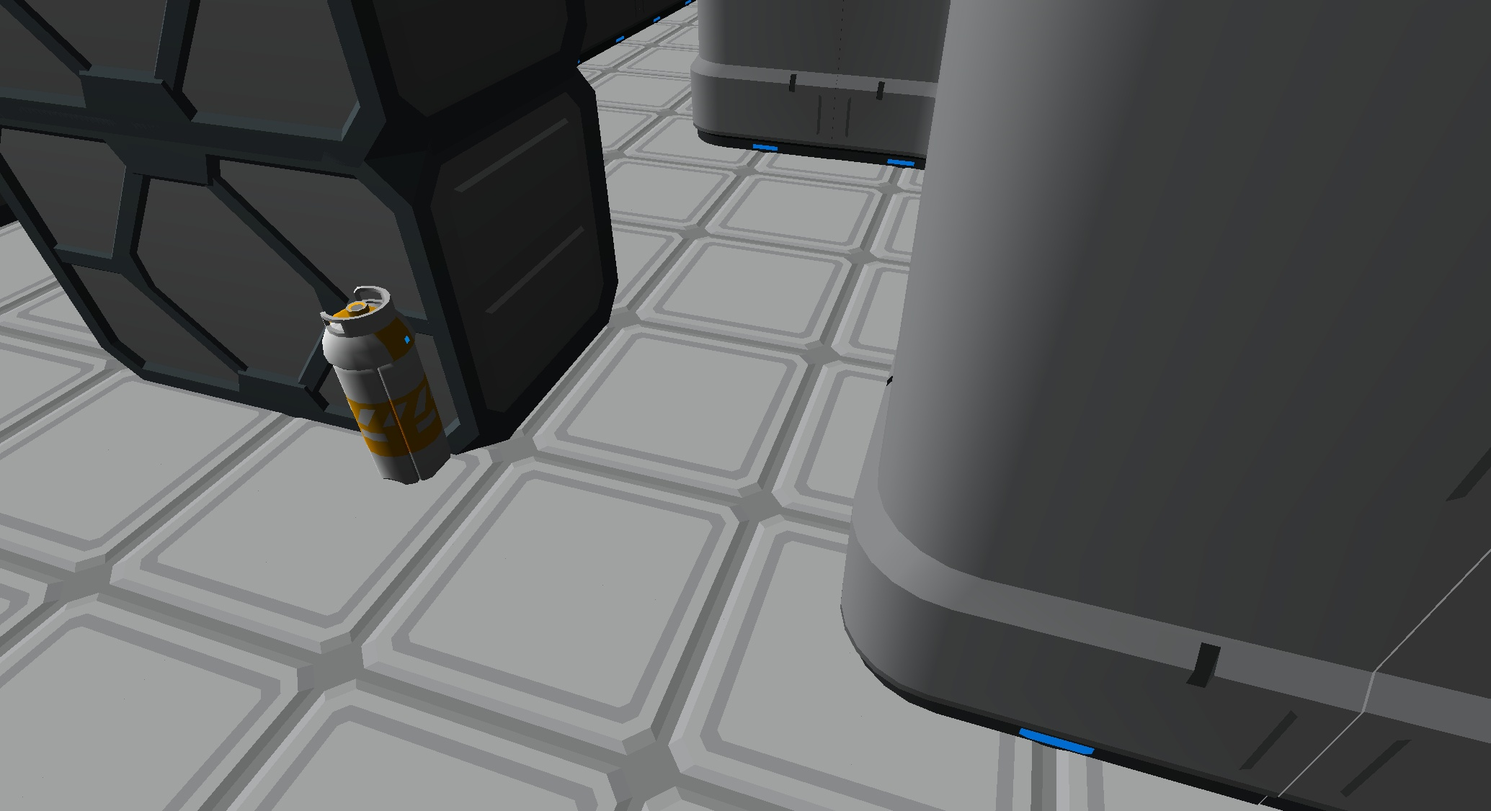yellow_barrel: (321, 286, 449, 483)
